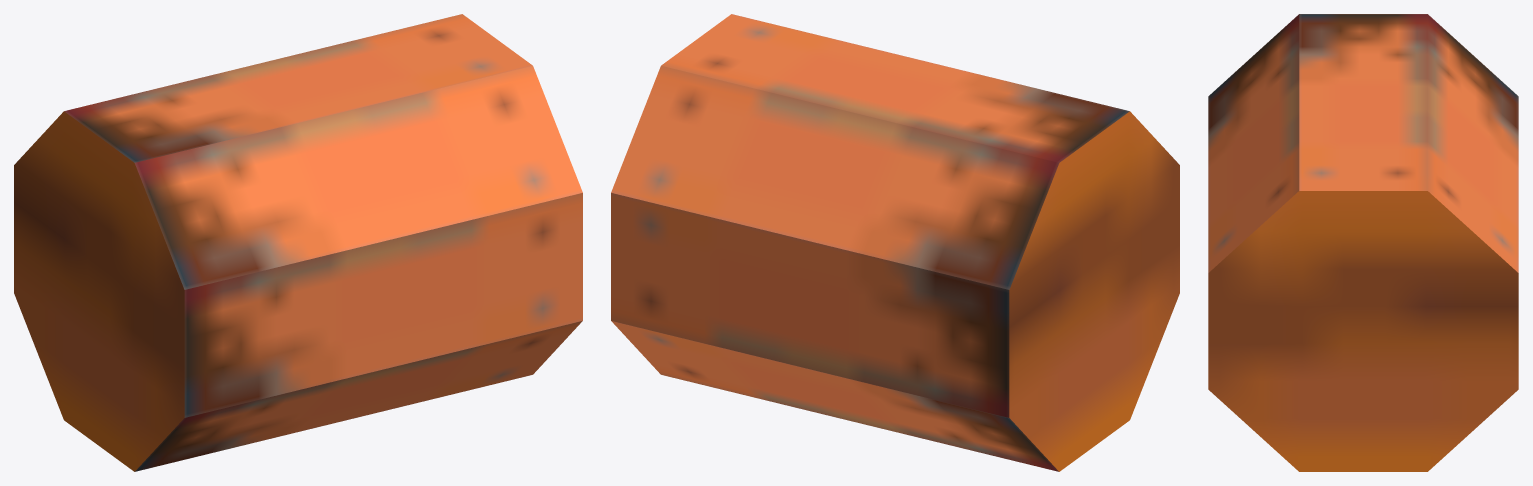
The model's file is Weapon_BottomSlave.obj.
3 renders of one model, left to right at view 1: azimuth 30°, elevation 25°; view 2: azimuth 150°, elevation 25°; view 3: azimuth 270°, elevation 25°, orthographic. The views are drawn at different scales.
Visible parts, largest first — view 1: PulsarGunUV; view 2: PulsarGunUV; view 3: PulsarGunUV.
Boxes of the visible parts, box(x1,y1,x2,y2) form: PulsarGunUV: box(14, 14, 582, 471); PulsarGunUV: box(611, 14, 1179, 471); PulsarGunUV: box(1208, 14, 1518, 471).
Bounding box in the file's own units: 2.68 × 1.99 × 1.99.
